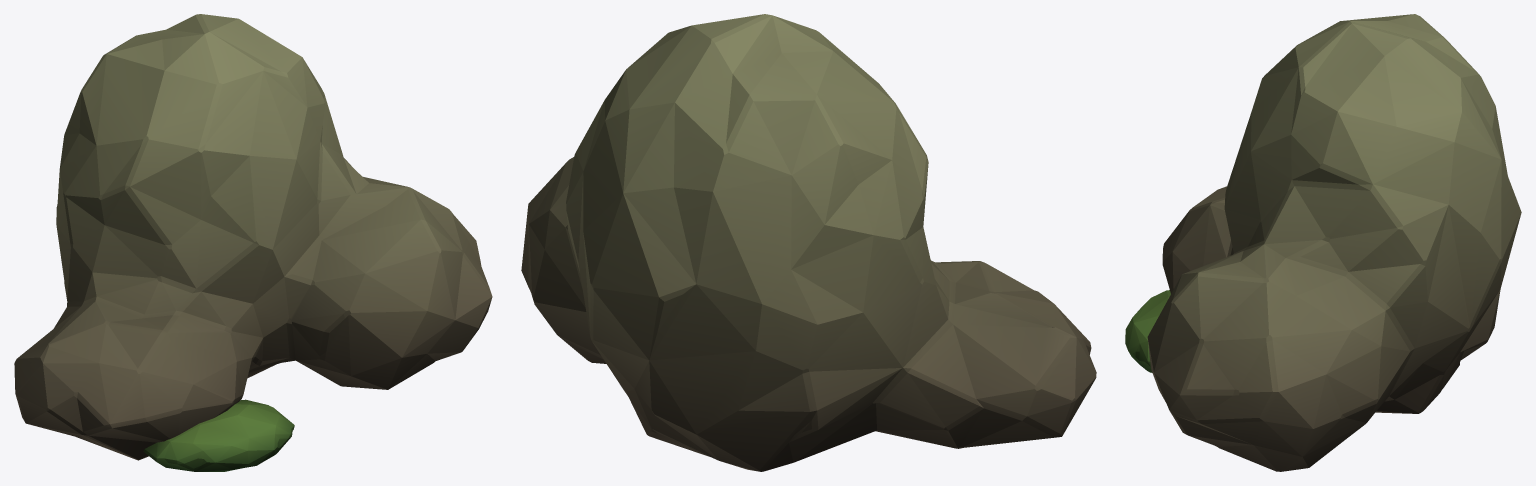
The model's file is skala_1_0.glb.
The picture shows the model from 3 angles, left to right: view 1: azimuth 30°, elevation 25°; view 2: azimuth 150°, elevation 25°; view 3: azimuth 270°, elevation 25°; orthographic projection. The views are drawn at different scales.
Visible parts, largest first — view 1: skala_1_0; view 2: skala_1_0; view 3: skala_1_0.
Boxes of the visible parts, box(x1,y1,x2,y2) form: skala_1_0: box(14, 14, 492, 471); skala_1_0: box(521, 14, 1096, 471); skala_1_0: box(1125, 14, 1521, 471).
Size of the model in its own units: 1.58 by 1.21 by 1.14.
